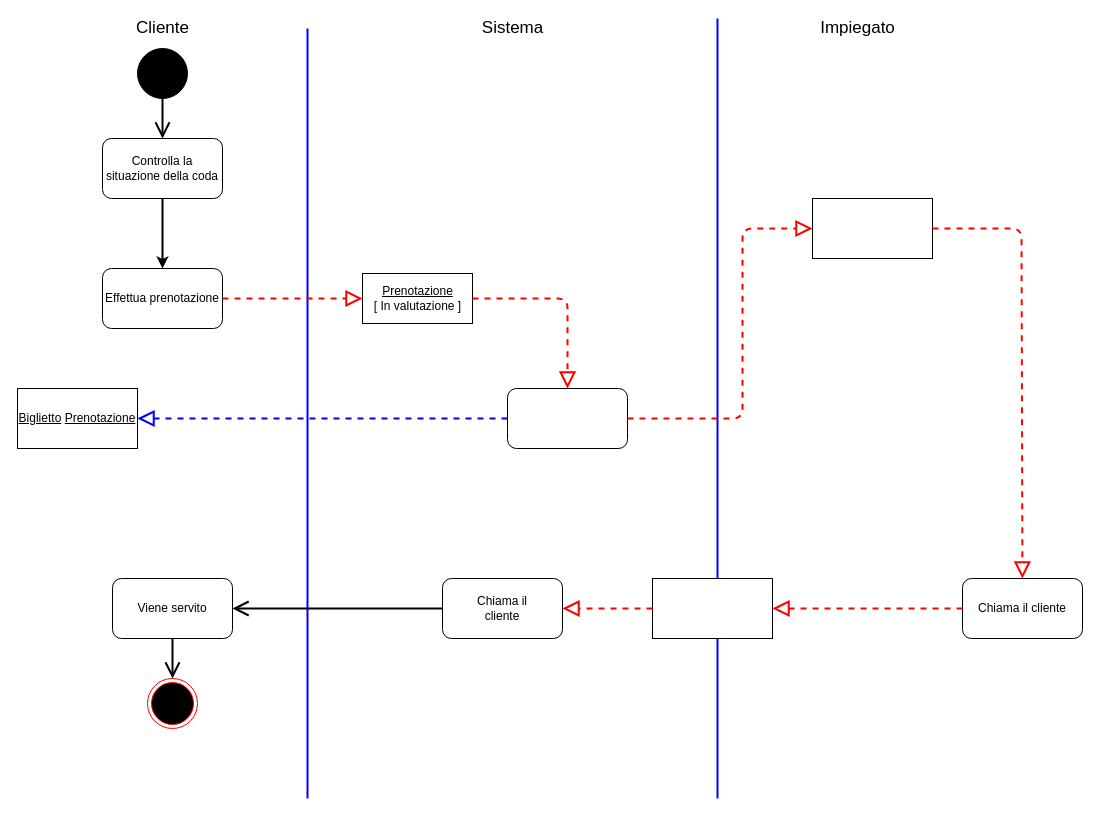
Image size: 1100x816. Some labels were removed from this diagram. Here are the shapes that lost their labels. From the top down, the box of each, then its label:
(812, 198, 932, 258): Prenotazione [ Da Accettare ]
(506, 388, 628, 448): Posizionamento Coda
(652, 578, 772, 638): Prenotazione [ Eseguita ]
